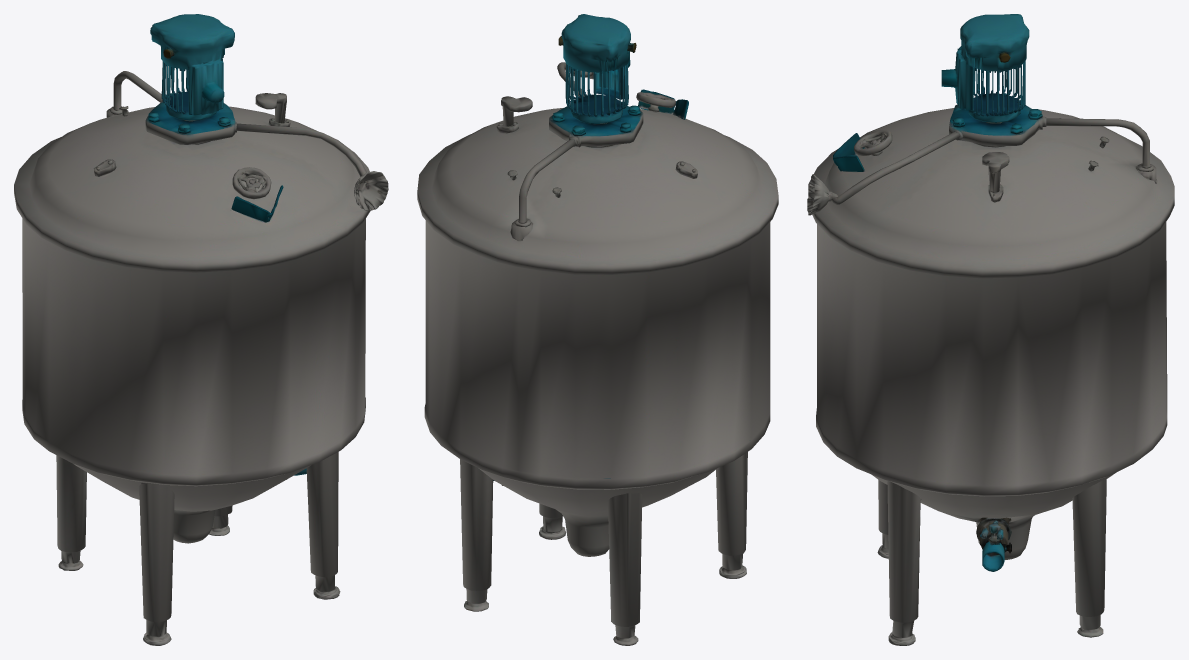
3 renders of one model, left to right at view 1: azimuth 30°, elevation 25°; view 2: azimuth 150°, elevation 25°; view 3: azimuth 270°, elevation 25°, orthographic. The views are drawn at different scales.
Parts seen in each view (by area): view 1: tripo_node_93dae506-3dc8-4020-a4d3-4c48962ee9c4; view 2: tripo_node_93dae506-3dc8-4020-a4d3-4c48962ee9c4; view 3: tripo_node_93dae506-3dc8-4020-a4d3-4c48962ee9c4.
Boxes of the visible parts, x1,y1,x2,y2 form: tripo_node_93dae506-3dc8-4020-a4d3-4c48962ee9c4: (14,14,388,645); tripo_node_93dae506-3dc8-4020-a4d3-4c48962ee9c4: (417,14,778,645); tripo_node_93dae506-3dc8-4020-a4d3-4c48962ee9c4: (807,14,1174,645).
Bounding box in the file's own units: 0.584 × 0.998 × 0.582.
1 material, 1 textured.
